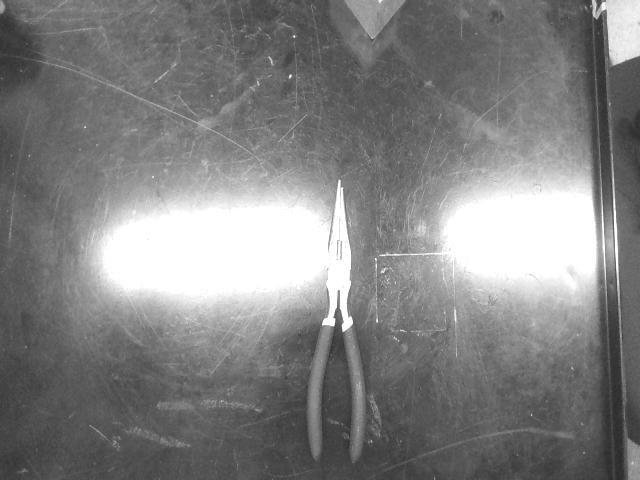Needle-nose pliers: (308, 180, 366, 463)
